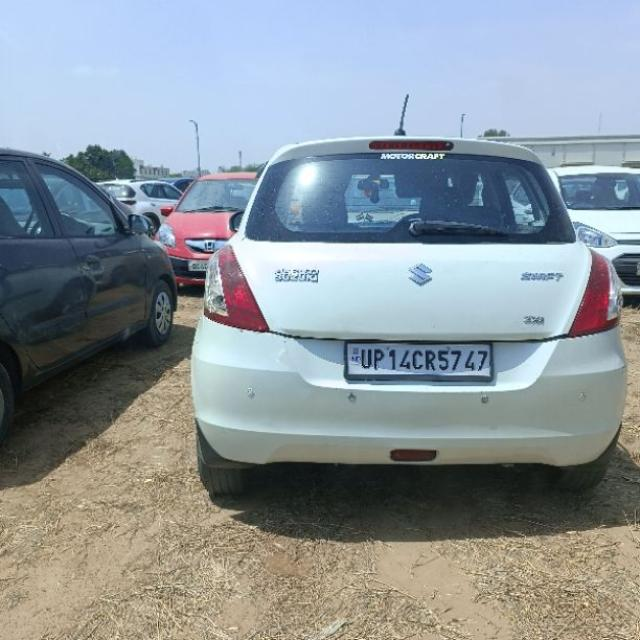license_plate: (342, 340, 494, 382)
